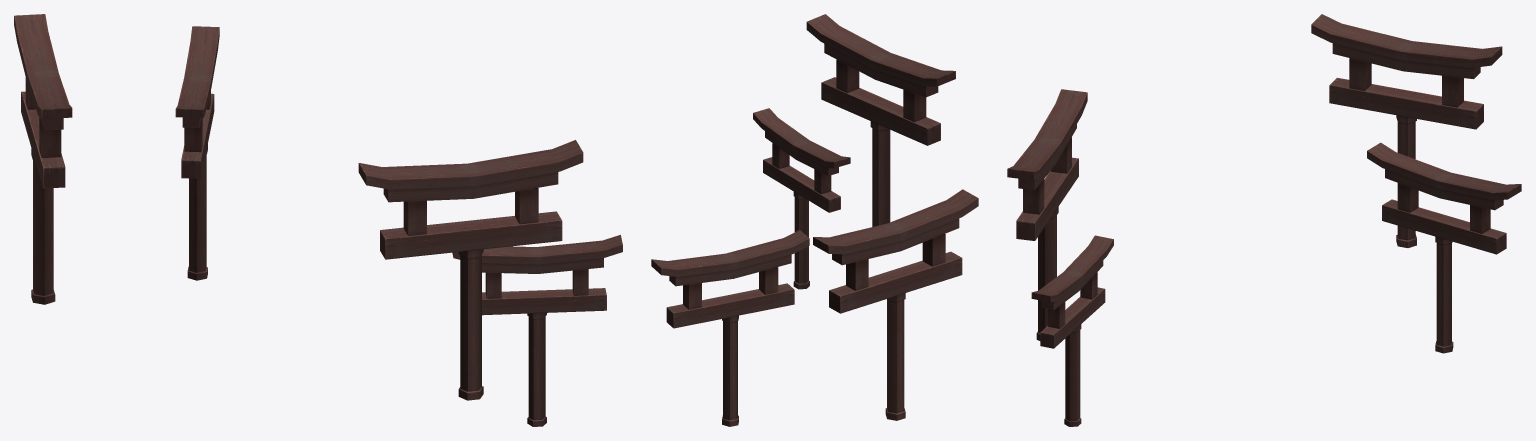
The model's file is Area_04_17.fbx.
3 renders of one model, left to right at view 1: azimuth 30°, elevation 25°; view 2: azimuth 150°, elevation 25°; view 3: azimuth 270°, elevation 25°, orthographic. The views are drawn at different scales.
Visible parts, largest first — view 1: Area_04_17; view 2: Area_04_17; view 3: Area_04_17.
Part boxes in pixels (x1,y1,x2,y2): Area_04_17: [14, 14, 622, 426]; Area_04_17: [651, 14, 978, 426]; Area_04_17: [1007, 14, 1521, 426].
Size of the model in its own units: 2331 by 1552 by 2794.
